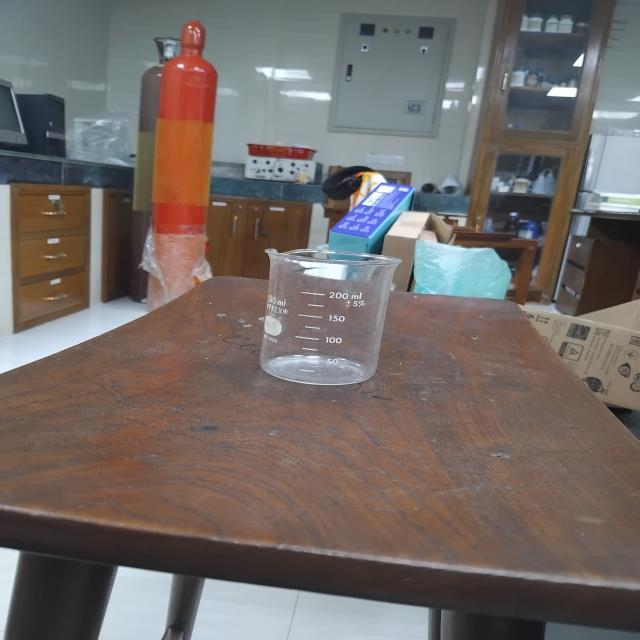Beaker: (246, 214, 447, 414)
